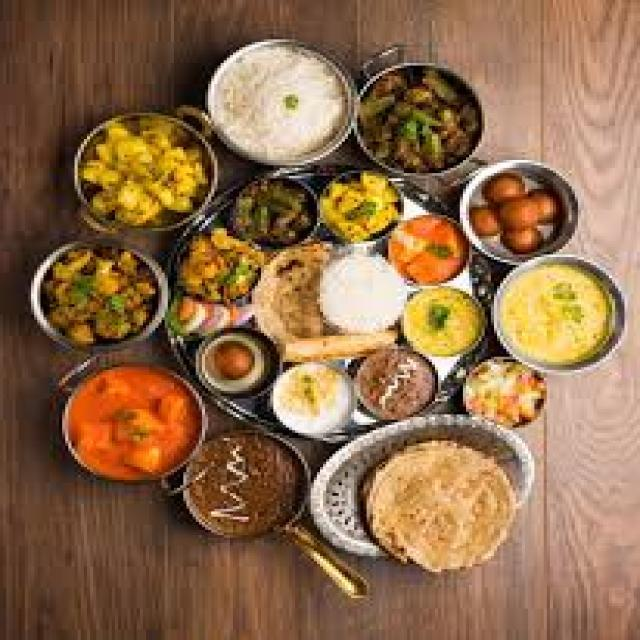raita: (268, 359, 360, 436)
rice: (360, 433, 520, 570), (317, 249, 408, 329)
roti: (253, 249, 332, 339)
sweet: (466, 170, 573, 258), (190, 329, 282, 397)
veg-fry: (51, 359, 209, 485), (95, 117, 219, 223), (387, 211, 474, 283)
